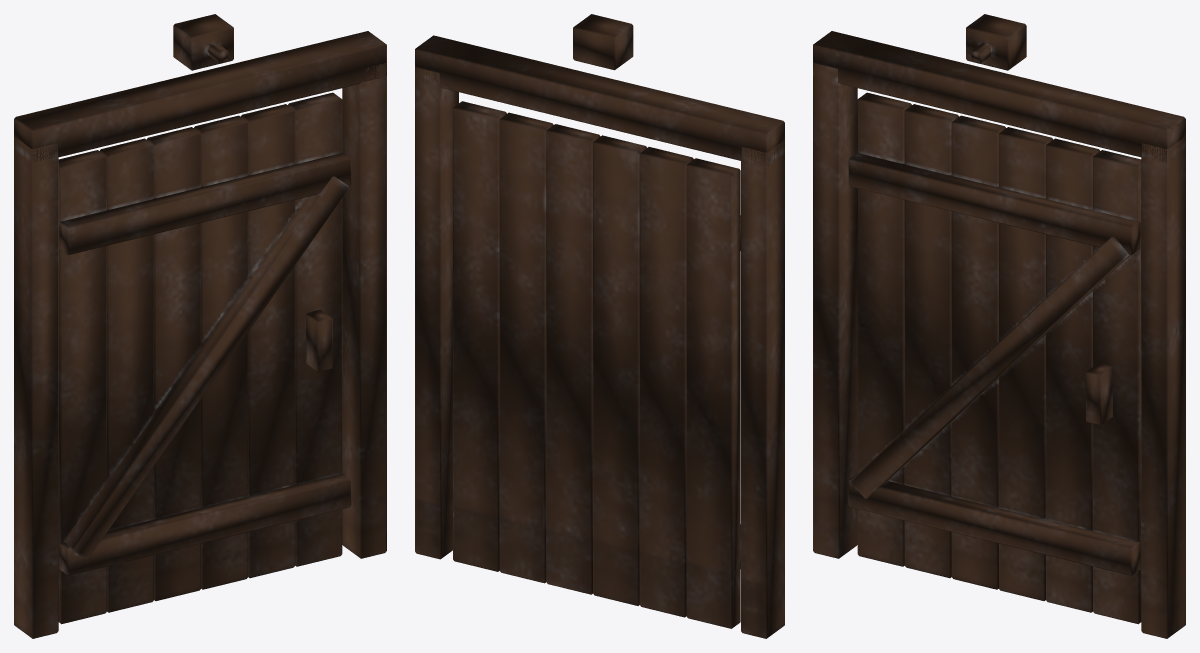
The model's file is Puerta_Taller.fbx.
3 renders of one model, left to right at view 1: azimuth 30°, elevation 25°; view 2: azimuth 150°, elevation 25°; view 3: azimuth 330°, elevation 25°, orthographic.
Visible parts, largest first — view 1: Puerta_Taller; view 2: Puerta_Taller; view 3: Puerta_Taller.
Boxes of the visible parts, x1,y1,x2,y2 form: Puerta_Taller: (14,14,386,638); Puerta_Taller: (415,14,784,638); Puerta_Taller: (813,14,1185,638).
Size of the model in its own units: 6.5 by 9.9 by 1.05.
